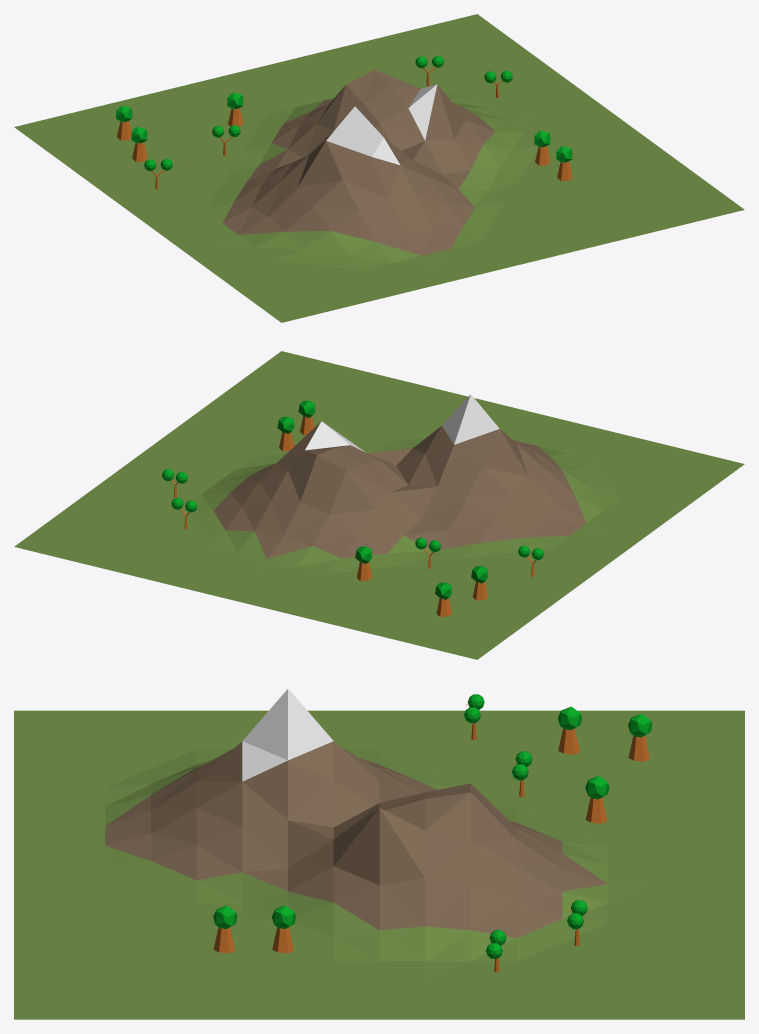
Rendered from Mountains.fbx.
3 renders of one model, top to bottom at view 1: azimuth 30°, elevation 25°; view 2: azimuth 150°, elevation 25°; view 3: azimuth 270°, elevation 25°, orthographic. The views are drawn at different scales.
Visible parts, largest first — view 1: Plane; view 2: Plane; view 3: Plane, Cylinder.005, Cylinder.001, Cylinder.004, Cylinder.002, Cylinder.
Part boxes in pixels (box(x1,y1,x2,y2)): Plane: box(14, 14, 744, 322); Plane: box(14, 351, 744, 659); Plane: box(14, 689, 744, 1019); Cylinder.005: box(213, 905, 237, 953); Cylinder.001: box(585, 775, 609, 823); Cylinder.004: box(272, 905, 295, 953); Cylinder.002: box(558, 706, 581, 754); Cylinder: box(628, 713, 652, 761).
Size of the model in its own units: 2215 by 463 by 2215.
